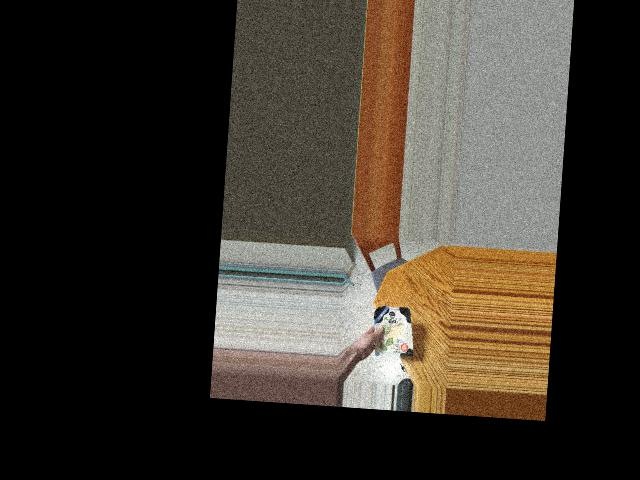cheese: (367, 298, 410, 366)
